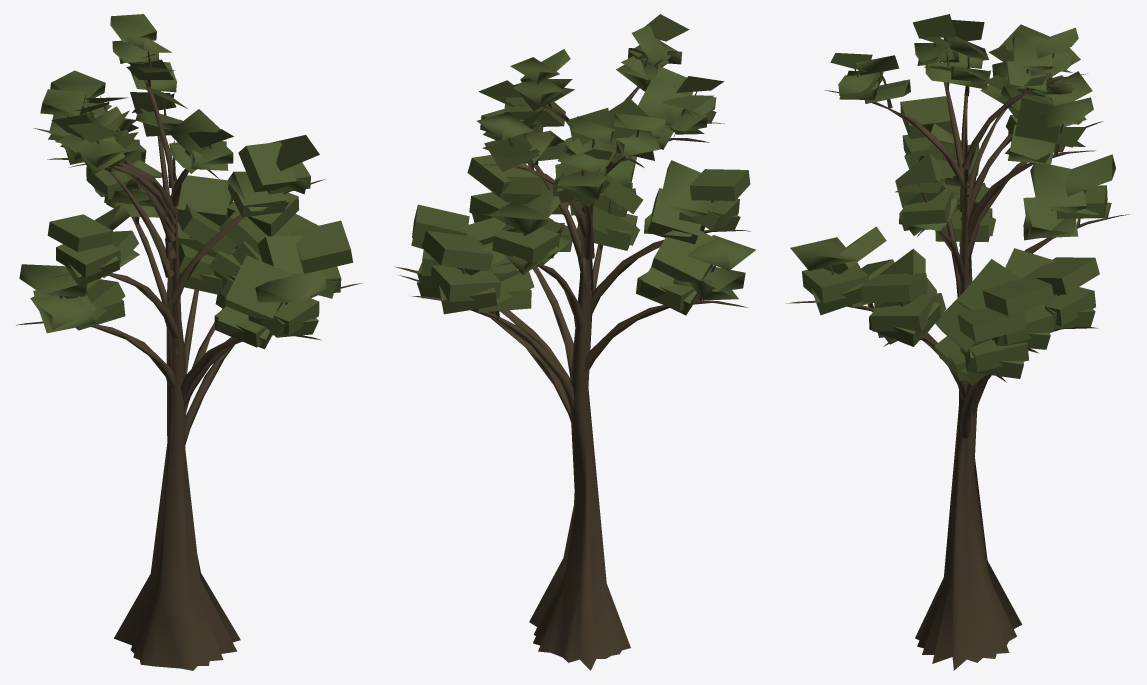
File: Tree_BaldCypress_008.fbx
3 renders of one model, left to right at view 1: azimuth 30°, elevation 25°; view 2: azimuth 150°, elevation 25°; view 3: azimuth 270°, elevation 25°, orthographic. The views are drawn at different scales.
Visible parts, largest first — view 1: Tree_BaldCypress.008; view 2: Tree_BaldCypress.008; view 3: Tree_BaldCypress.008.
Boxes of the visible parts, x1=… form: Tree_BaldCypress.008: x1=16, y1=14, x2=362, y2=670; Tree_BaldCypress.008: x1=394, y1=14, x2=755, y2=670; Tree_BaldCypress.008: x1=786, y1=14, x2=1129, y2=670.
Bounding box in the file's own units: 1333 × 2359 × 1219.
